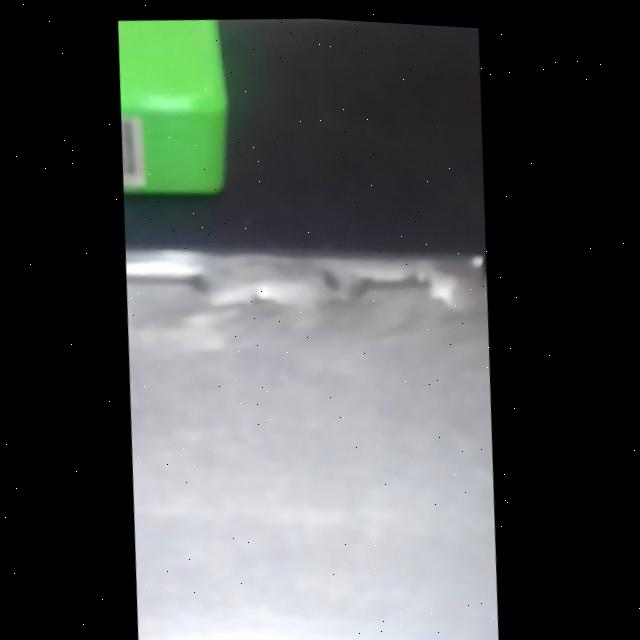greenBox: (112, 10, 261, 227)
